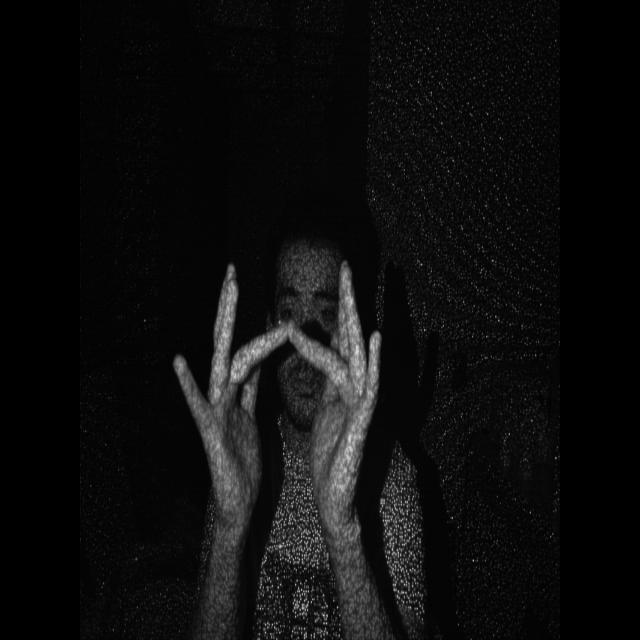REACH: (172, 228, 406, 534)
